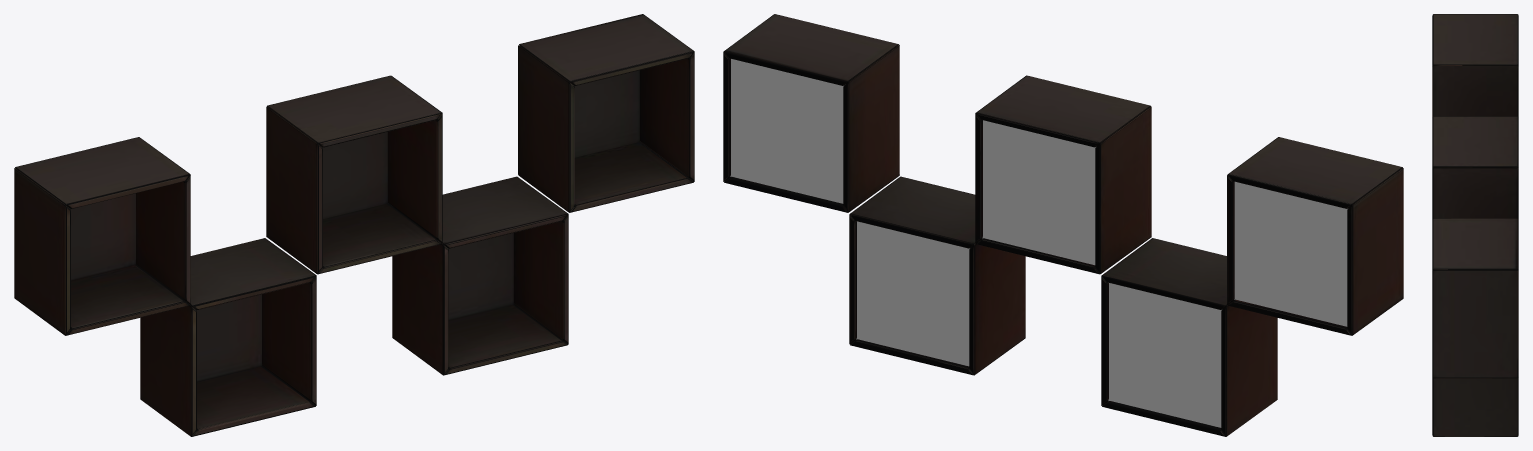
Rendered from squareShelves.glb.
3 renders of one model, left to right at view 1: azimuth 30°, elevation 25°; view 2: azimuth 150°, elevation 25°; view 3: azimuth 270°, elevation 25°, orthographic. The views are drawn at different scales.
Visible parts, largest first — view 1: wallShelf; view 2: wallShelf; view 3: wallShelf.
Boxes of the visible parts, x1,y1,x2,y2 form: wallShelf: (14,14,694,436); wallShelf: (723,14,1403,436); wallShelf: (1432,14,1518,436).
Bounding box in the file's own units: 1.75 × 0.7 × 0.2497.
Materials: 2 (1 with a texture image).
